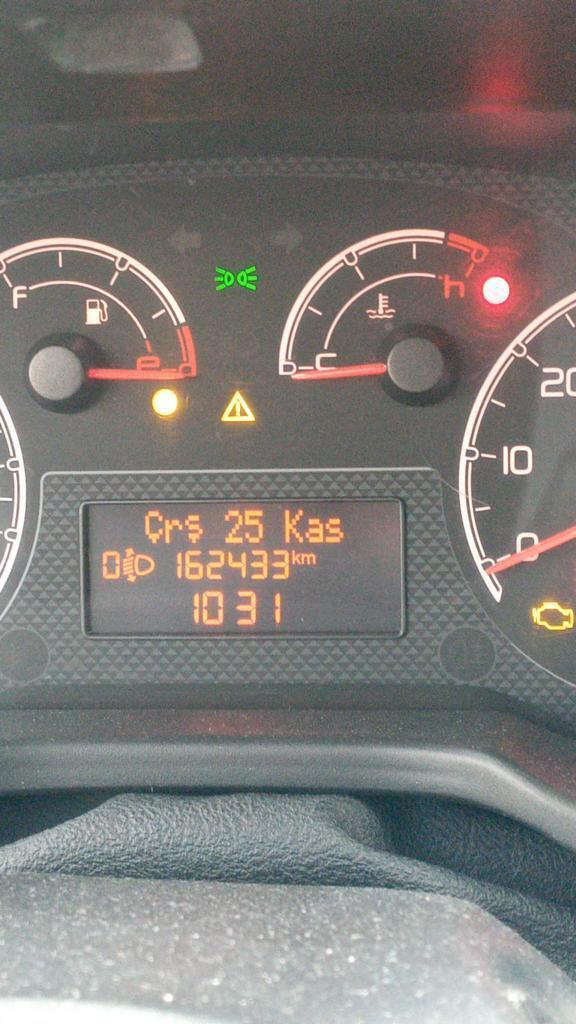0: (202, 590, 224, 626), (101, 550, 120, 579)
1: (192, 591, 200, 625), (273, 591, 281, 624), (175, 551, 182, 578)
2: (224, 509, 243, 544), (206, 549, 225, 579)
3: (234, 590, 256, 625), (249, 550, 268, 580), (271, 549, 289, 579)
4: (226, 551, 246, 578)
5: (243, 509, 264, 543)
6: (184, 550, 204, 580)
X: (283, 509, 304, 543), (144, 510, 163, 543), (183, 515, 203, 543), (305, 518, 324, 543), (325, 517, 343, 543), (163, 519, 182, 543), (301, 552, 316, 565), (291, 550, 301, 565)
odometer: (79, 496, 406, 641)
